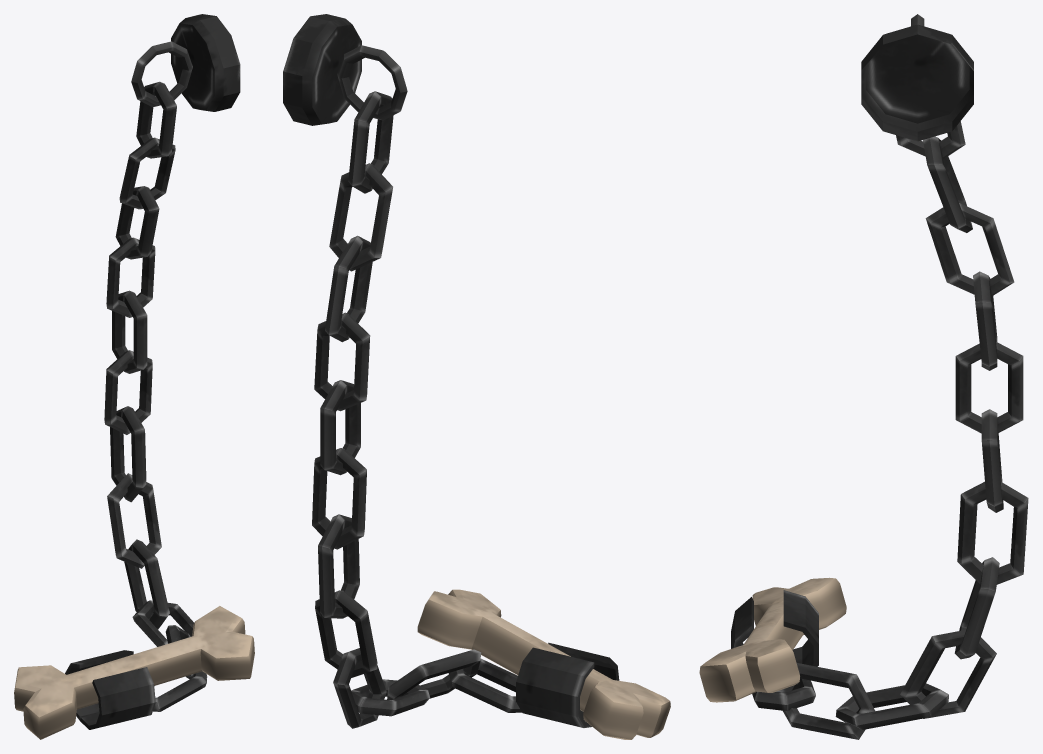
Rendered from SM_chainFloor01.fbx.
3 views of the same model, side by side, from view 1: azimuth 30°, elevation 25°; view 2: azimuth 150°, elevation 25°; view 3: azimuth 270°, elevation 25° (orthographic). The views are drawn at different scales.
Parts seen in each view (by area): view 1: SM_chainFloor01; view 2: SM_chainFloor01; view 3: SM_chainFloor01.
Part boxes in pixels (x1=…): SM_chainFloor01: x1=14, y1=14, x2=254, y2=739; SM_chainFloor01: x1=283, y1=14, x2=670, y2=739; SM_chainFloor01: x1=699, y1=14, x2=1028, y2=739.
Size of the model in its own units: 0.8814 by 2.08 by 0.8413.
